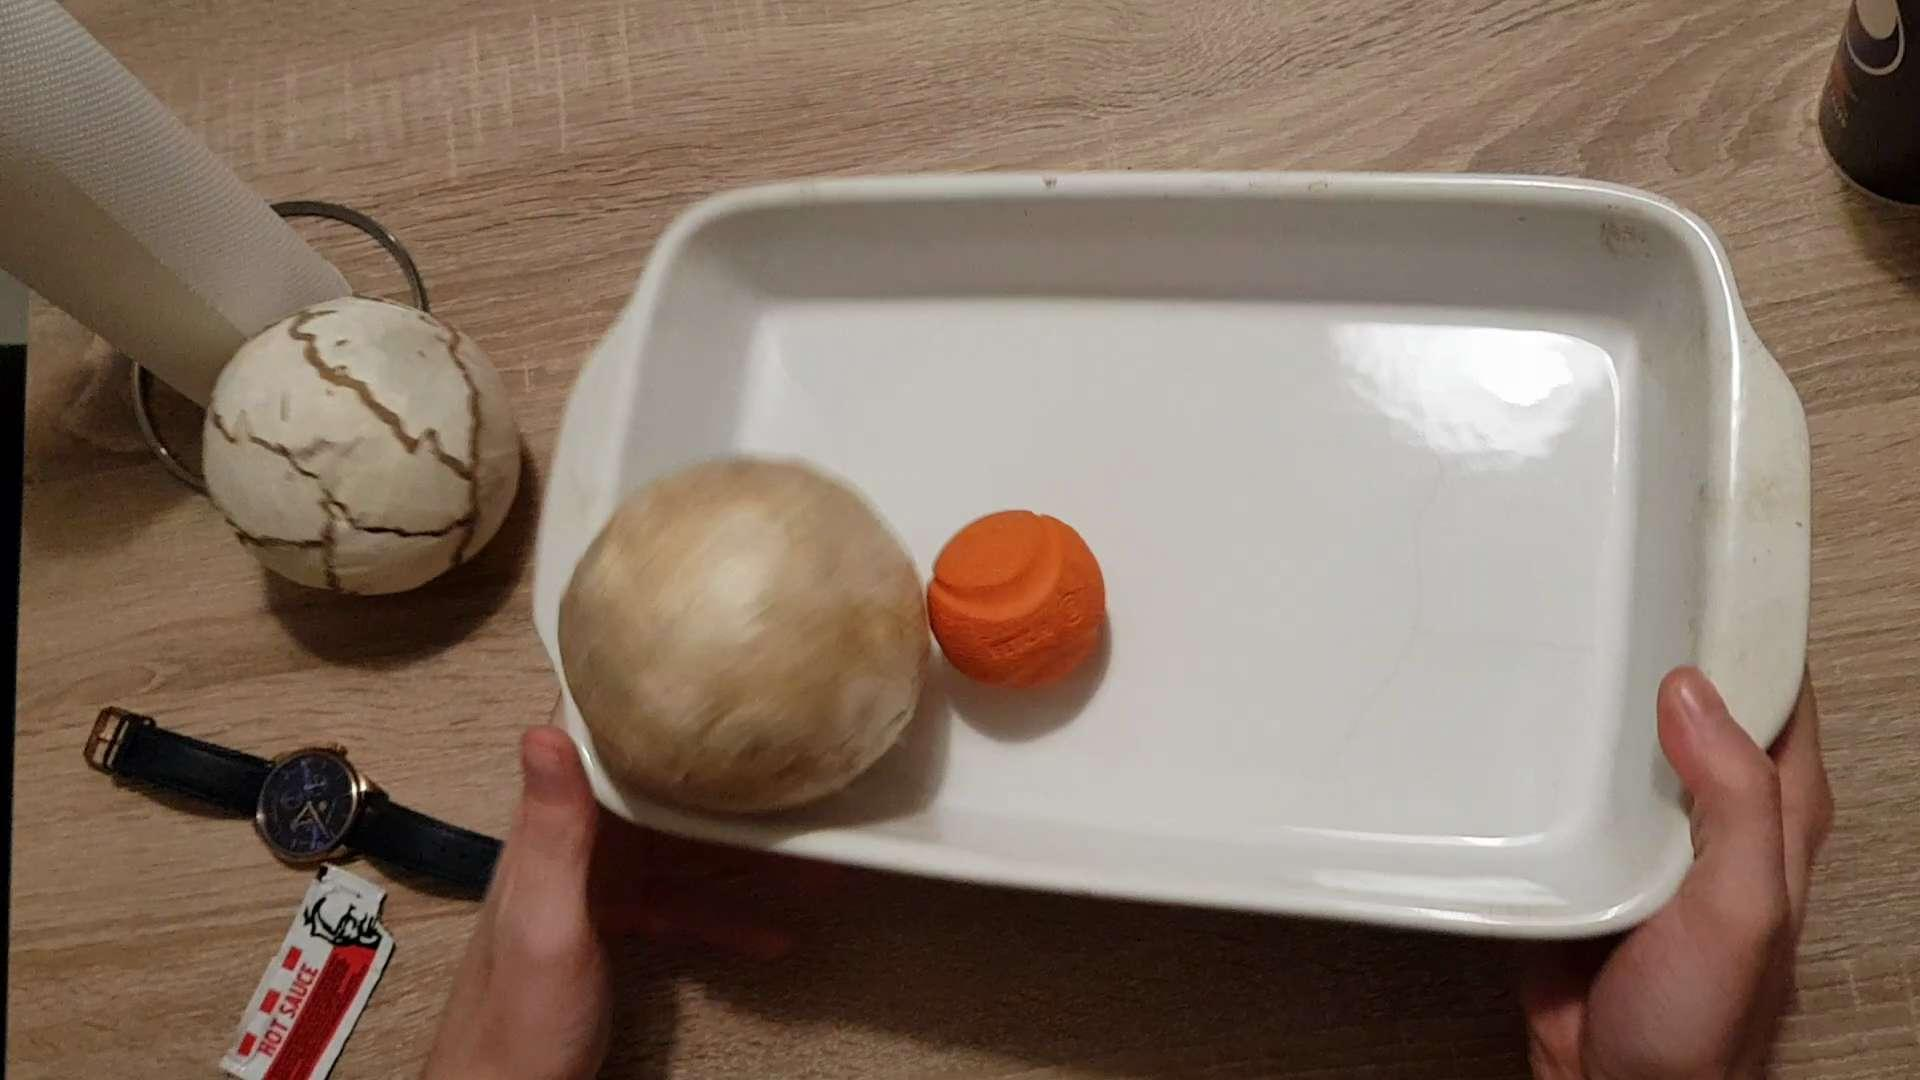Sphere: (916, 508, 1106, 688)
sphere: (553, 448, 927, 824), (194, 295, 527, 592)
